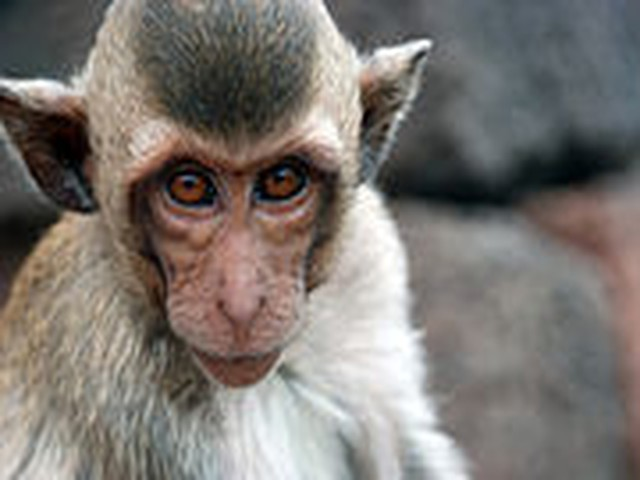Monkey: (1, 4, 473, 480)
